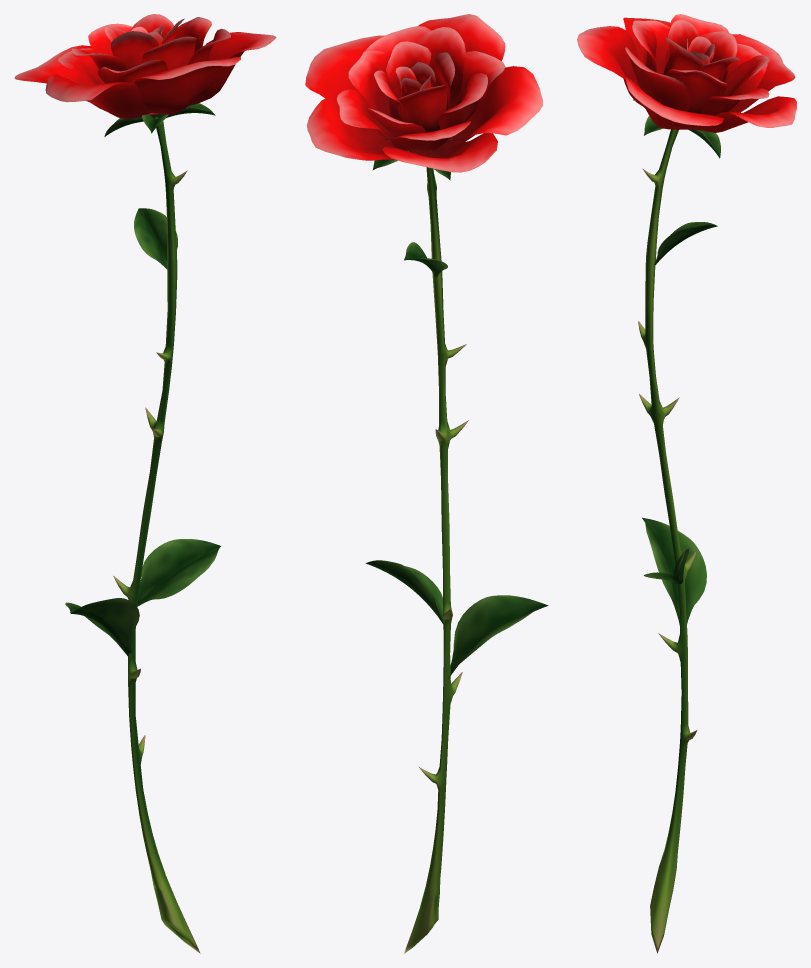
The model's file is rose.glb.
The picture shows the model from 3 angles, left to right: view 1: azimuth 30°, elevation 25°; view 2: azimuth 150°, elevation 25°; view 3: azimuth 270°, elevation 25°; orthographic projection. The views are drawn at different scales.
Visible parts, largest first — view 1: polySurface31; view 2: polySurface31; view 3: polySurface31.
Boxes of the visible parts, <box> form: polySurface31: <box>14,14,276,953</box>; polySurface31: <box>305,14,548,953</box>; polySurface31: <box>577,14,796,953</box>.
Size of the model in its own units: 3.43 by 13.93 by 3.05.
Materials: 5 (5 with a texture image).
